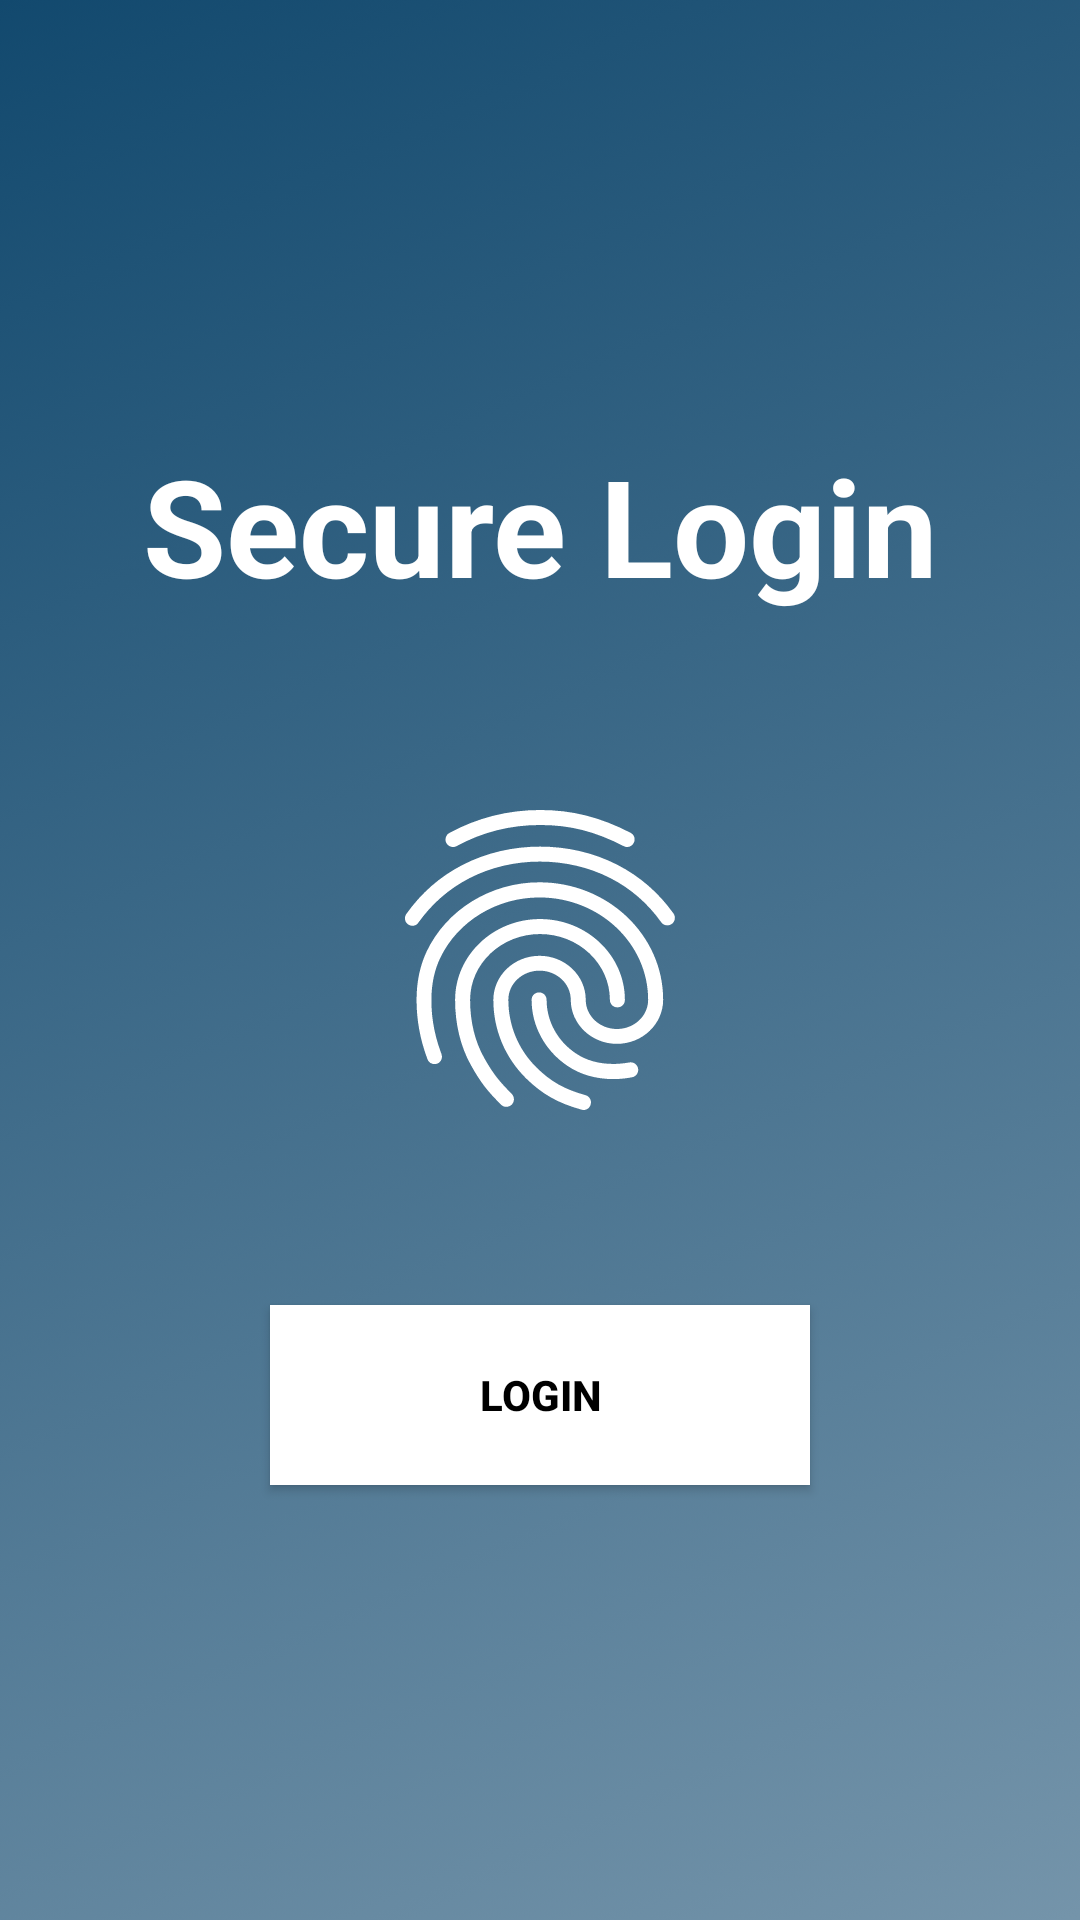

Named icons in this screenshot (1080w x 1920h) and their bounding boxes, Rect(x1, y1, x2, y2):
Fingerprint: Rect(405, 810, 675, 1110)
